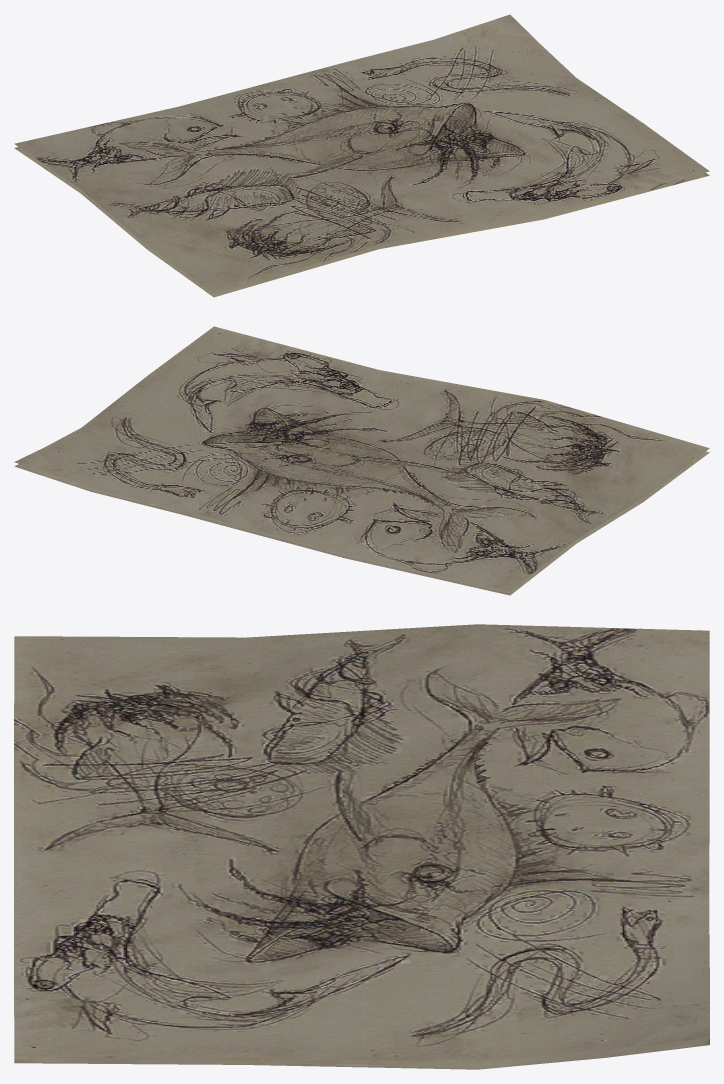
The model's file is 01_01_sketches_amy_02.dae.
3 views of the same model, one above another, from view 1: azimuth 30°, elevation 25°; view 2: azimuth 150°, elevation 25°; view 3: azimuth 270°, elevation 25° (orthographic). The views are drawn at different scales.
Visible parts, largest first — view 1: sketch02; view 2: sketch02; view 3: sketch02.
Boxes of the visible parts, x1,y1,x2,y2 form: sketch02: (14, 14, 709, 297); sketch02: (14, 326, 709, 595); sketch02: (14, 624, 709, 1069).
Size of the model in its own units: 0.2807 by 0.1958 by 0.0104.
